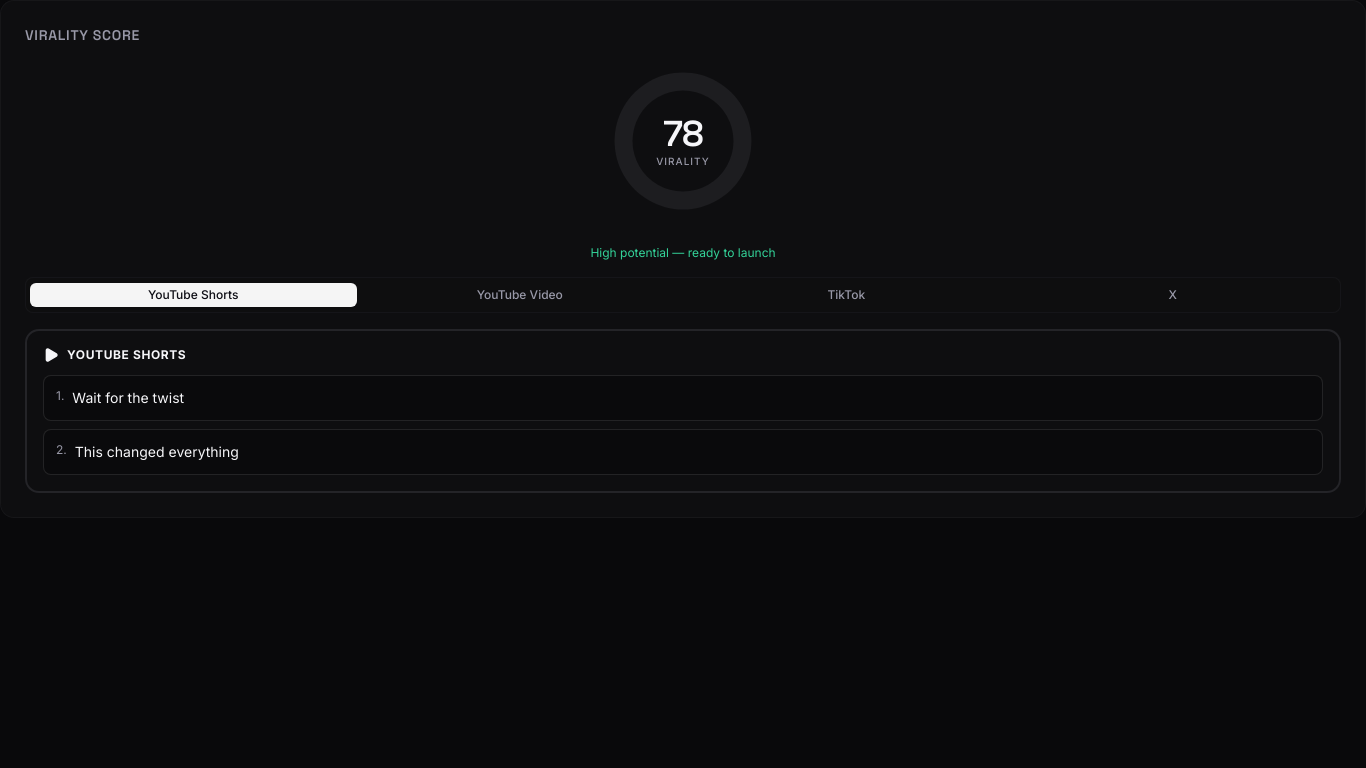
it: PlatformPreviewCanvas › shows YouTube Video fallback prompt
Click the tab "YouTube Video" at (520, 295), box [356,283,683,307]
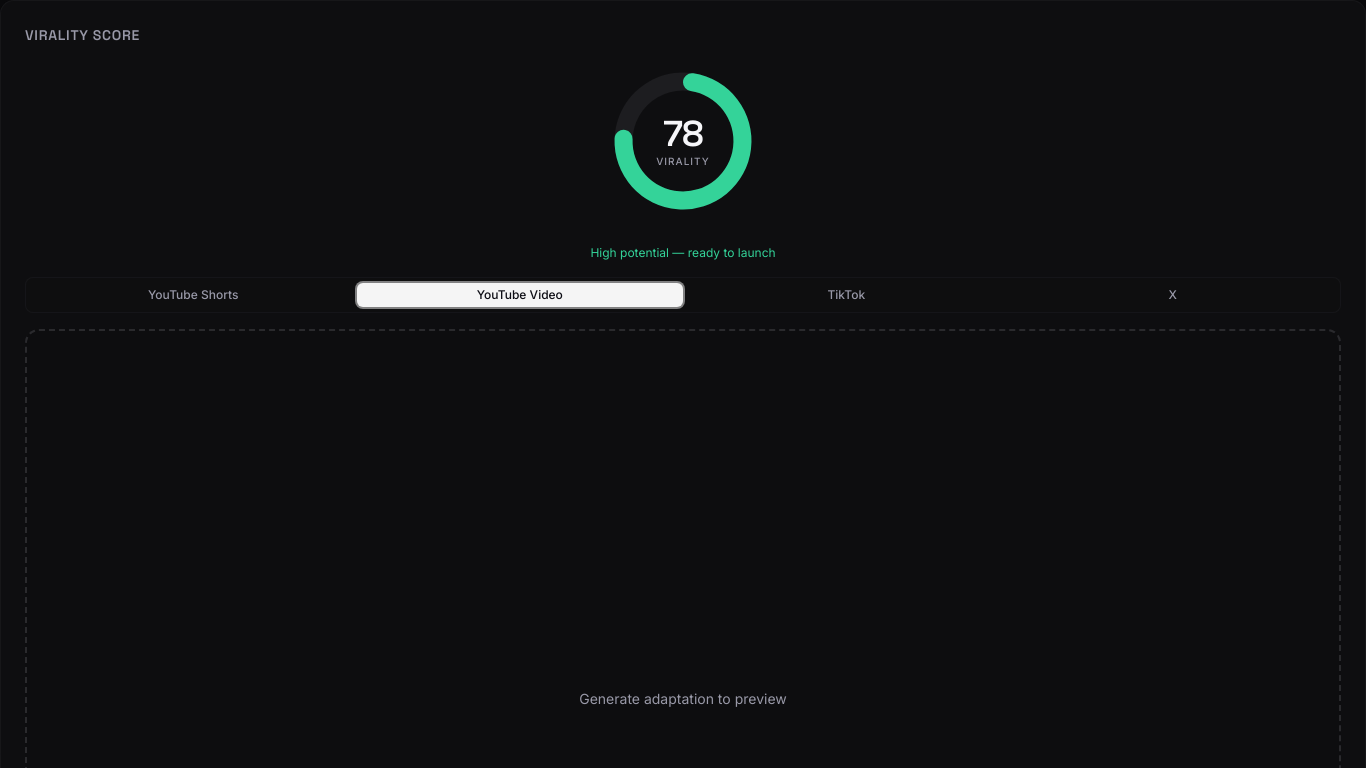
Result: the text "Generate adaptation to preview" is shown at [579,689,787,709]
